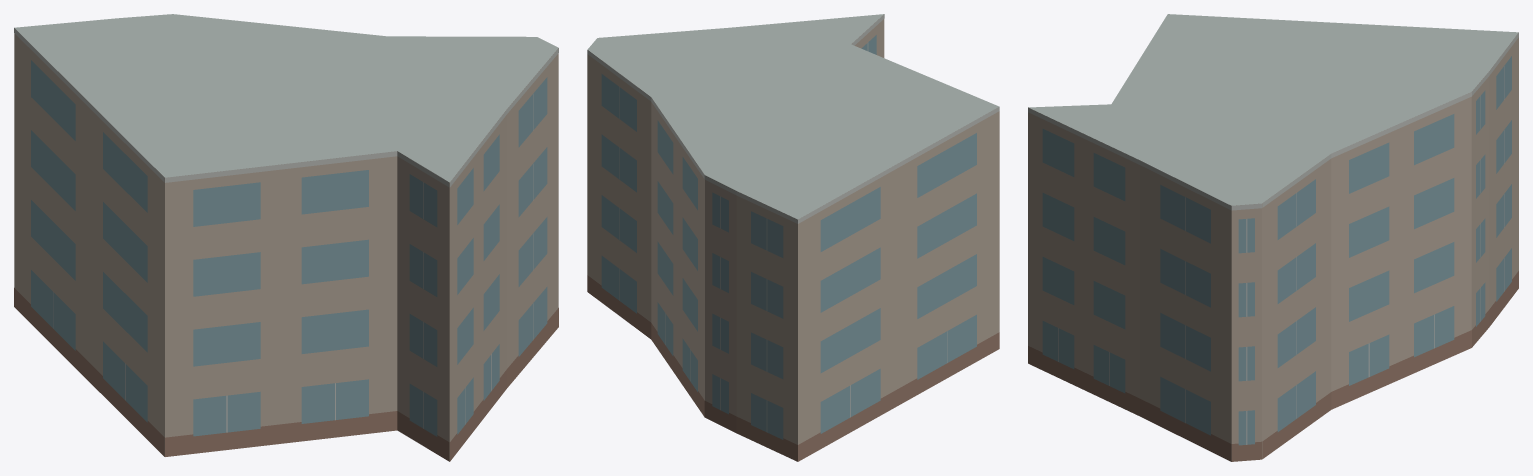
The model's file is survey-upis-32469345.glb.
3 renders of one model, left to right at view 1: azimuth 30°, elevation 25°; view 2: azimuth 150°, elevation 25°; view 3: azimuth 270°, elevation 25°, orthographic. The views are drawn at different scales.
Parts seen in each view (by area): view 1: survey-upis-32469345.tmp; view 2: survey-upis-32469345.tmp; view 3: survey-upis-32469345.tmp.
Part boxes in pixels (x1,y1,x2,y2): survey-upis-32469345.tmp: (14,14,558,461); survey-upis-32469345.tmp: (587,14,999,461); survey-upis-32469345.tmp: (1028,14,1518,461).
Bounding box in the file's own units: 21.21 × 13.2 × 22.93.
